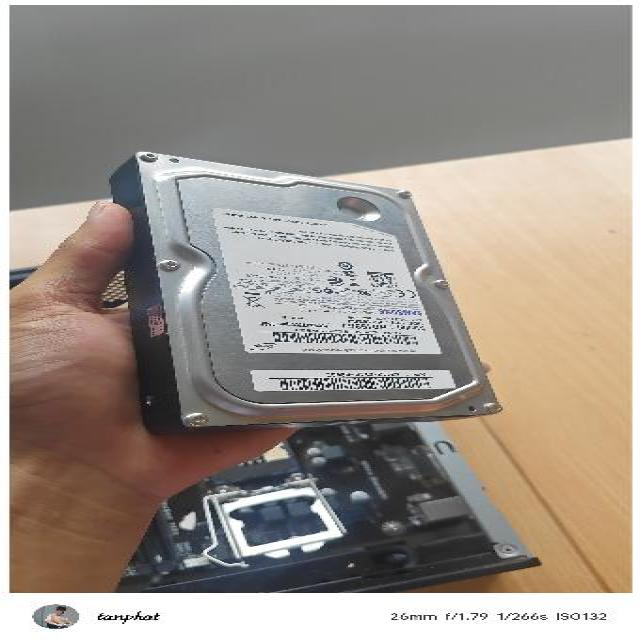DISK: (106, 150, 504, 434)
